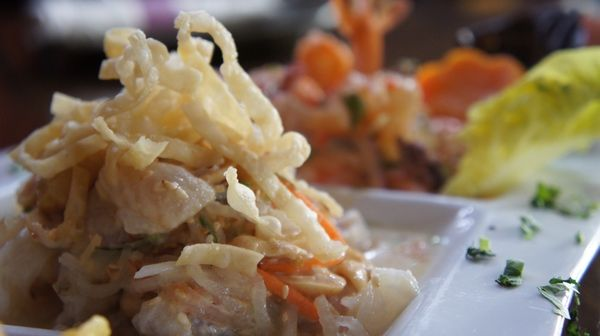curry: (443, 44, 600, 199)
